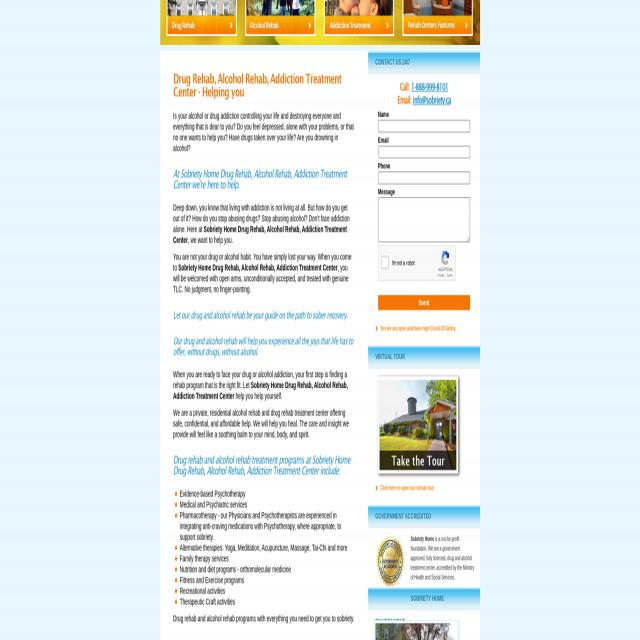button: (368, 369, 463, 482), (167, 0, 236, 34), (403, 0, 472, 34), (246, 0, 314, 34), (325, 0, 393, 34), (375, 534, 411, 588)
field: (378, 295, 470, 310), (378, 120, 470, 133), (378, 146, 470, 158), (378, 172, 470, 184)
